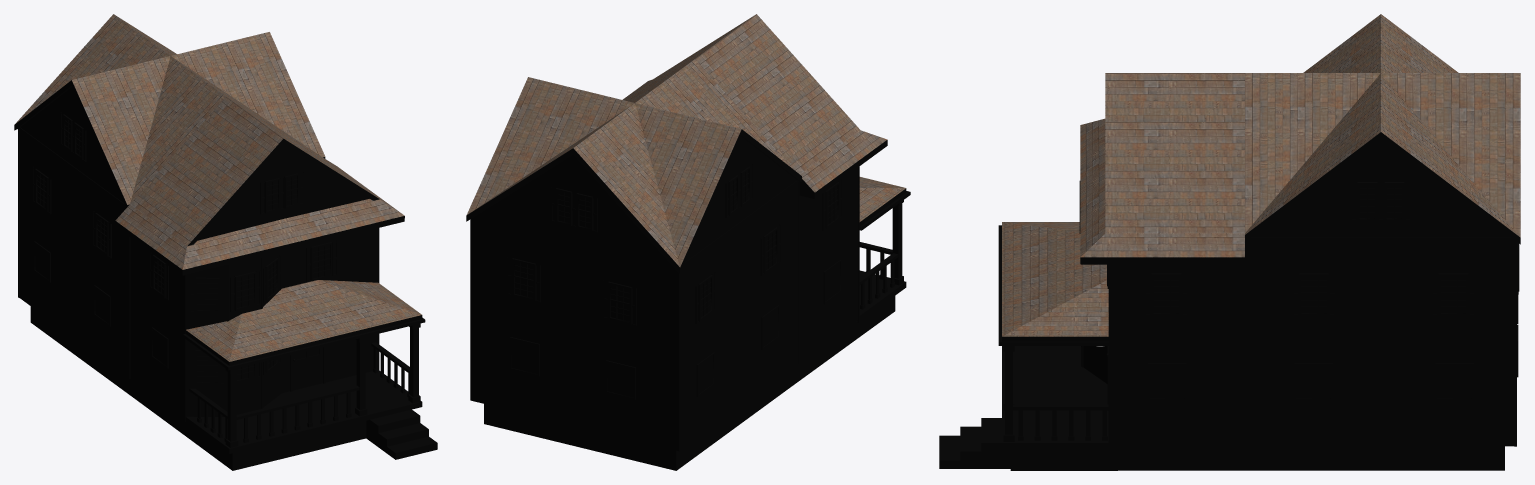
Rendered from VintageFamilyHome.fbx.
The picture shows the model from 3 angles, left to right: view 1: azimuth 30°, elevation 25°; view 2: azimuth 150°, elevation 25°; view 3: azimuth 270°, elevation 25°; orthographic projection. The views are drawn at different scales.
Visible parts, largest first — view 1: VintageHome; view 2: VintageHome; view 3: VintageHome.
Part boxes in pixels (box(x1,y1,x2,y2)): VintageHome: box(14, 14, 437, 470); VintageHome: box(466, 14, 910, 470); VintageHome: box(939, 14, 1520, 470).
Bounding box in the file's own units: 9.8 × 11.91 × 18.21.
